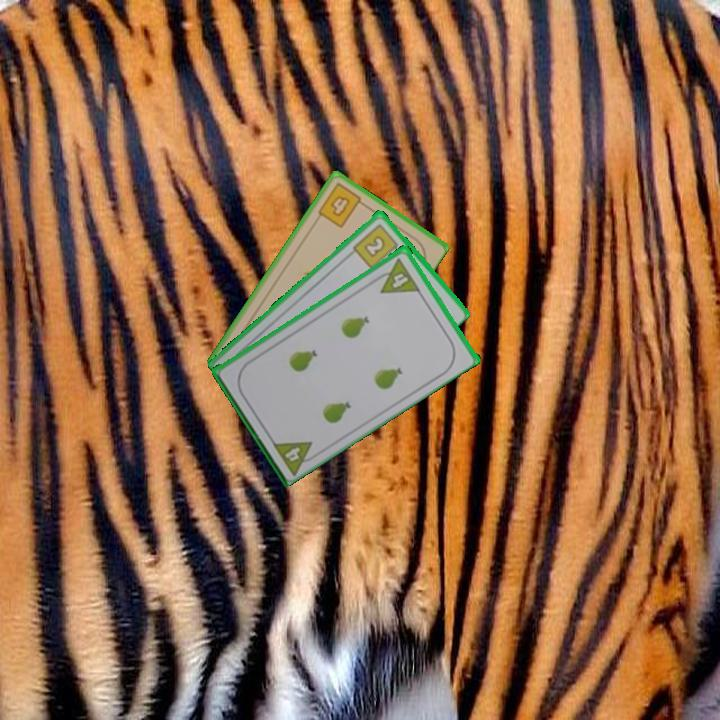2b: (349, 220, 403, 271)
4b: (314, 179, 369, 231)
4p: (268, 437, 322, 477), (371, 254, 422, 296)
